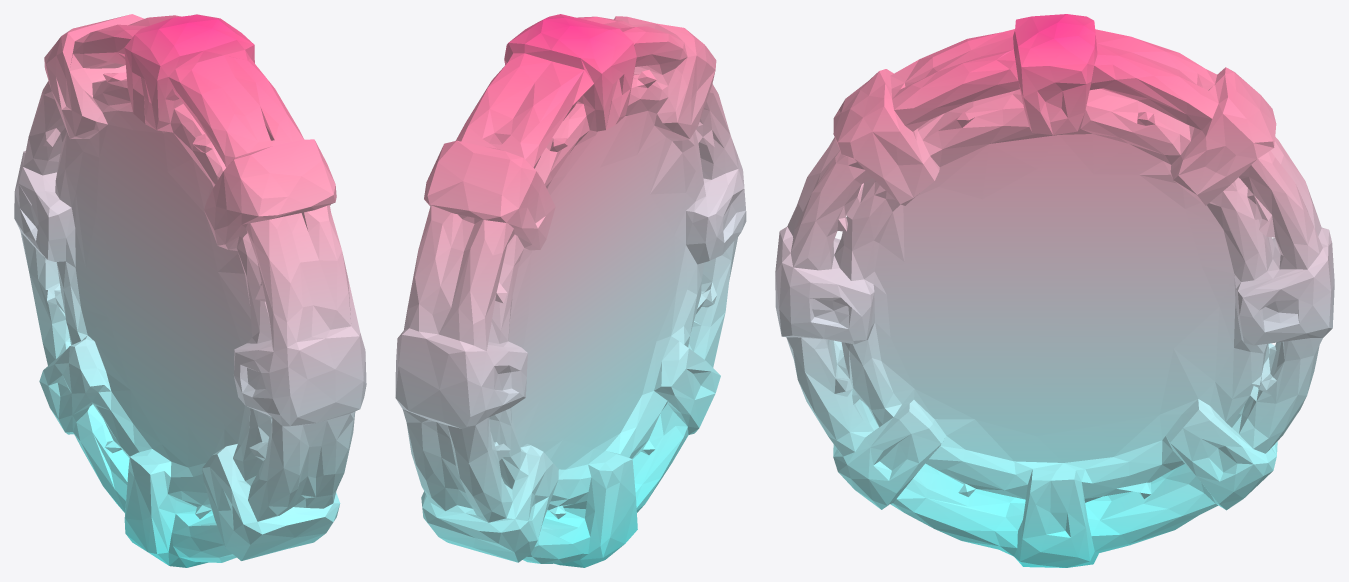
Rendered from 184_cyb_laser_gradient_fish_scales_2994_2026_10_03_aa4525.glb.
3 views of the same model, side by side, from view 1: azimuth 30°, elevation 25°; view 2: azimuth 150°, elevation 25°; view 3: azimuth 270°, elevation 25° (orthographic).
Visible parts, largest first — view 1: geometry_0; view 2: geometry_0; view 3: geometry_0.
Part boxes in pixels (<box>): geometry_0: <box>14,14,366,567</box>; geometry_0: <box>395,14,746,567</box>; geometry_0: <box>775,14,1334,567</box>.
Bounding box in the file's own units: 0.2104 × 1 × 0.9559.
